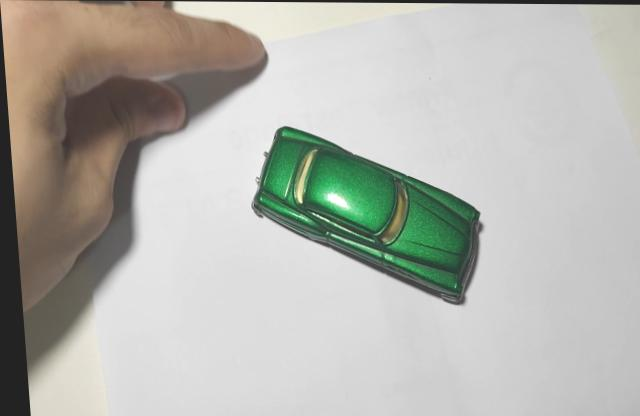06_MASERATI: (247, 126, 479, 306)
